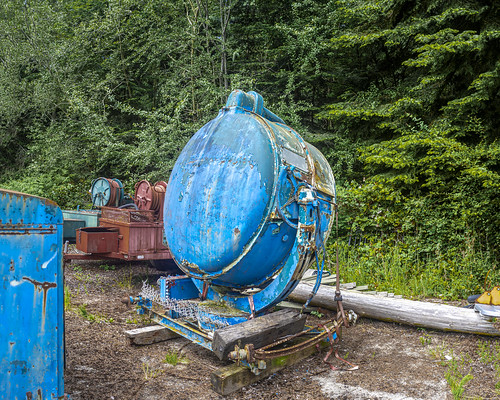vegetation: (9, 1, 499, 256)
